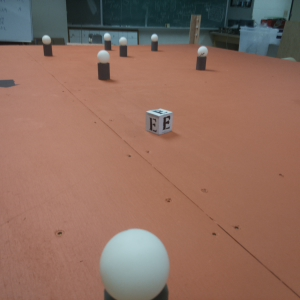obstacle: (95, 221, 173, 299), (98, 53, 112, 82), (42, 36, 56, 58), (196, 49, 209, 70), (118, 38, 130, 58), (150, 34, 161, 54), (105, 34, 113, 51)
